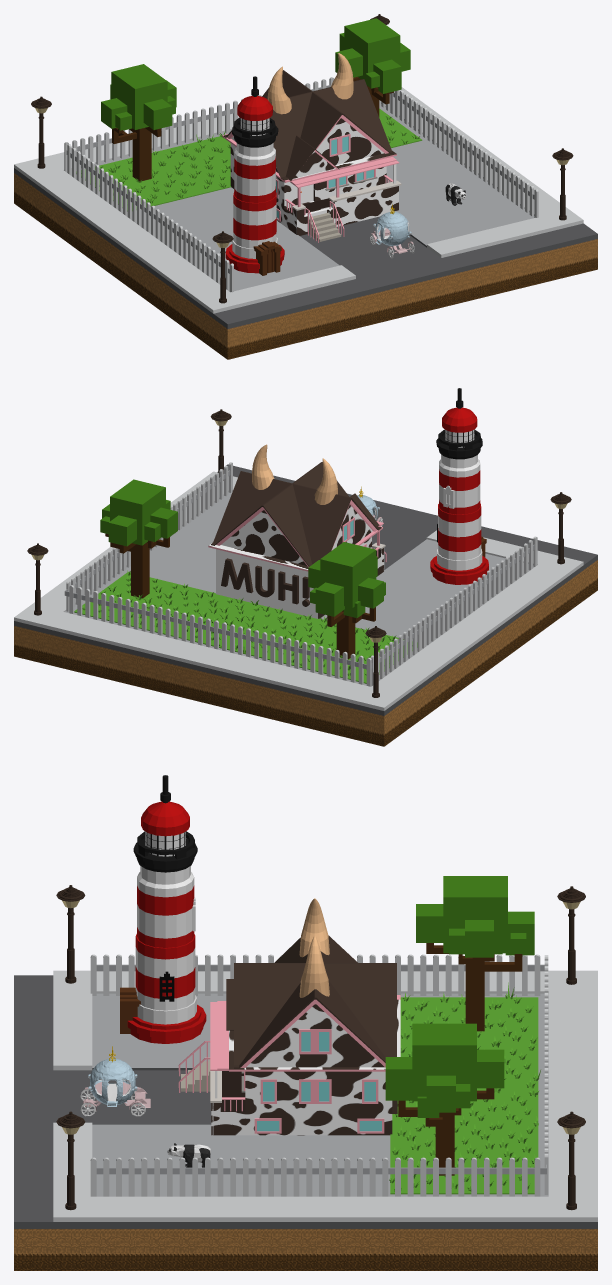
3 views of the same model, one above another, from view 1: azimuth 30°, elevation 25°; view 2: azimuth 150°, elevation 25°; view 3: azimuth 270°, elevation 25° (orthographic). The views are drawn at different scales.
Parts seen in each view (by area): view 1: Cube.004, Cube.1242, OBJRANDOM_LIGHTHOUSE, VEHICLES_FANTASY_CARRIAGE; view 2: Cube.004, Cube.1242, OBJRANDOM_LIGHTHOUSE; view 3: Cube.004, Cube.1242, OBJRANDOM_LIGHTHOUSE, VEHICLES_FANTASY_CARRIAGE, ANIMAL_PANDA.
Boxes of the visible parts, <box> form: Cube.004: <box>14,14,597,359</box>; Cube.1242: <box>222,53,401,242</box>; OBJRANDOM_LIGHTHOUSE: <box>225,76,284,275</box>; VEHICLES_FANTASY_CARRIAGE: <box>370,204,414,258</box>; Cube.004: <box>14,409,597,746</box>; Cube.1242: <box>208,444,386,618</box>; OBJRANDOM_LIGHTHOUSE: <box>430,388,488,584</box>; Cube.004: <box>14,876,597,1270</box>; Cube.1242: <box>178,898,400,1135</box>; OBJRANDOM_LIGHTHOUSE: <box>120,775,206,1043</box>; VEHICLES_FANTASY_CARRIAGE: <box>80,1046,150,1116</box>; ANIMAL_PANDA: <box>167,1143,210,1167</box>.
Size of the model in its own units: 4000 by 2377 by 4000.
Materials: 34 (3 with a texture image).
